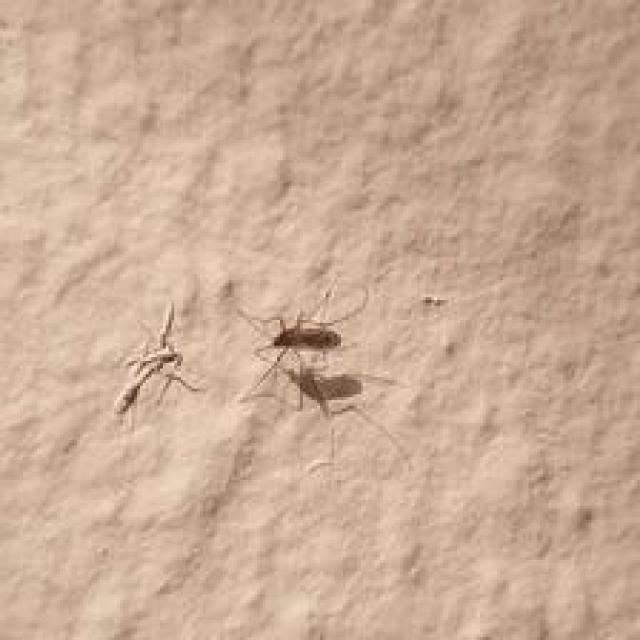Culex: (113, 300, 204, 417)
